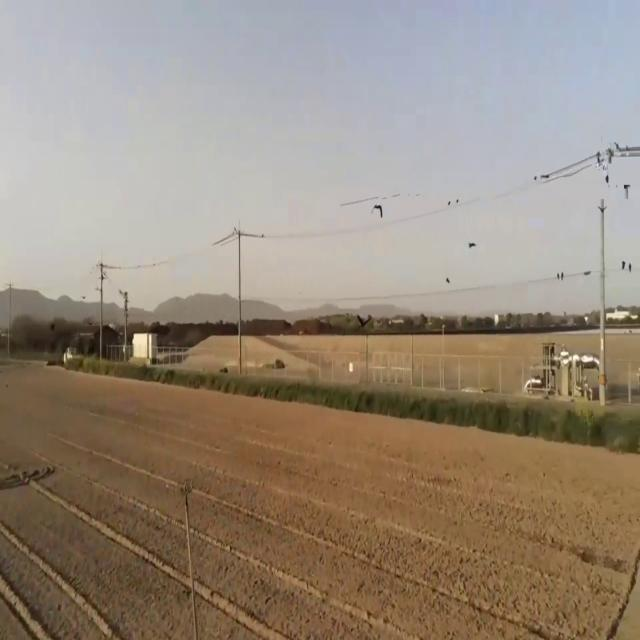bird: (372, 195, 384, 228), (356, 308, 369, 331), (468, 233, 477, 257)
